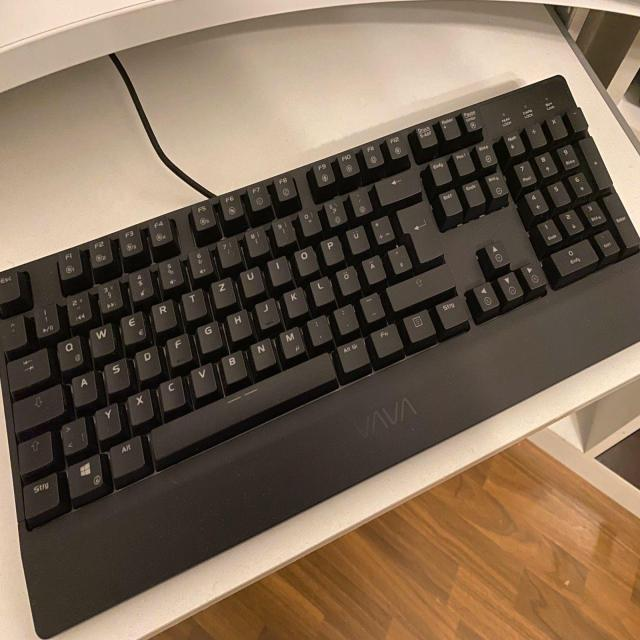0: (296, 204, 322, 235)
1: (32, 299, 60, 337)
2: (65, 289, 92, 324)
3: (95, 277, 122, 312)
4: (127, 265, 153, 300)
5: (157, 254, 183, 288)
6: (186, 244, 213, 277)
7: (216, 234, 241, 267)
8: (243, 223, 269, 256)
9: (270, 213, 296, 245)
a: (70, 368, 97, 406)
accent: (348, 183, 372, 215)
ae: (360, 251, 385, 283)
alt-left: (107, 431, 144, 481)
altgr-right: (334, 335, 369, 373)
b: (219, 347, 247, 383)
c: (157, 373, 185, 411)
caret: (1, 312, 26, 350)
comma: (305, 312, 331, 345)
d: (134, 342, 161, 379)
del: (372, 167, 421, 204)
e: (119, 308, 145, 344)
enter: (395, 199, 444, 262)
f: (165, 329, 191, 366)
g: (195, 318, 222, 352)
h: (225, 306, 252, 340)
hash: (386, 242, 411, 273)
i: (266, 253, 291, 285)
j: (253, 294, 279, 328)
k: (281, 285, 307, 317)
keyboard: (3, 65, 637, 552)
l: (309, 273, 334, 305)
less: (59, 413, 87, 454)
m: (276, 324, 304, 357)
minus: (358, 290, 384, 321)
n: (248, 335, 275, 370)
o: (292, 243, 317, 274)
oe: (335, 263, 360, 295)
p: (319, 233, 343, 265)
plus: (369, 212, 394, 243)
point: (332, 301, 358, 333)
q: (55, 332, 83, 370)
r: (149, 296, 176, 331)
s: (102, 355, 129, 393)
shift-left: (16, 428, 52, 474)
shift-lock: (11, 380, 63, 431)
shift-right: (383, 262, 455, 311)
space: (142, 344, 340, 465)
ss: (322, 193, 346, 225)
strg-left: (21, 470, 59, 519)
strg-right: (433, 293, 470, 328)
t: (180, 286, 206, 320)
tab: (5, 342, 50, 393)
u: (238, 263, 264, 296)
ue: (344, 221, 368, 253)
v: (188, 359, 217, 397)
w: (87, 320, 114, 356)
x: (125, 386, 153, 425)
y: (93, 400, 120, 439)
z: (209, 274, 235, 307)
